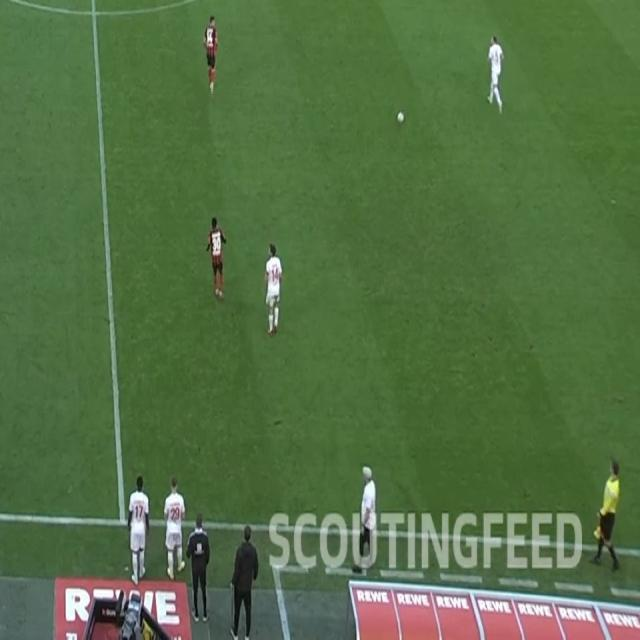ball: (397, 109, 405, 124)
